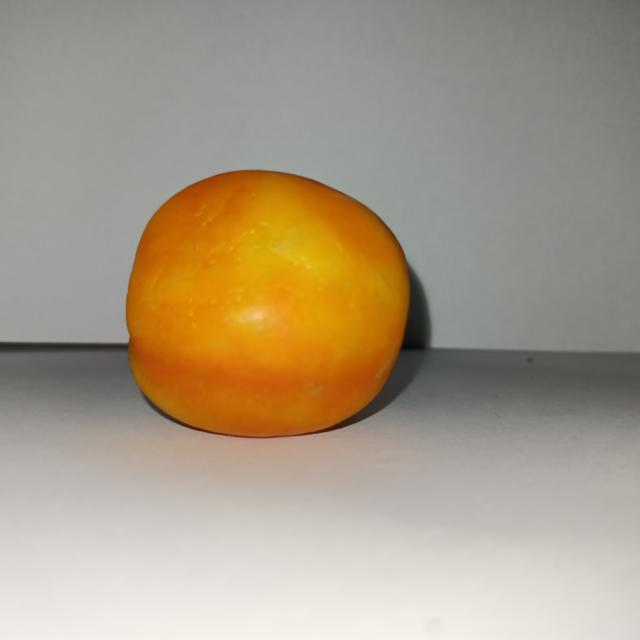Red: (124, 167, 411, 438)
